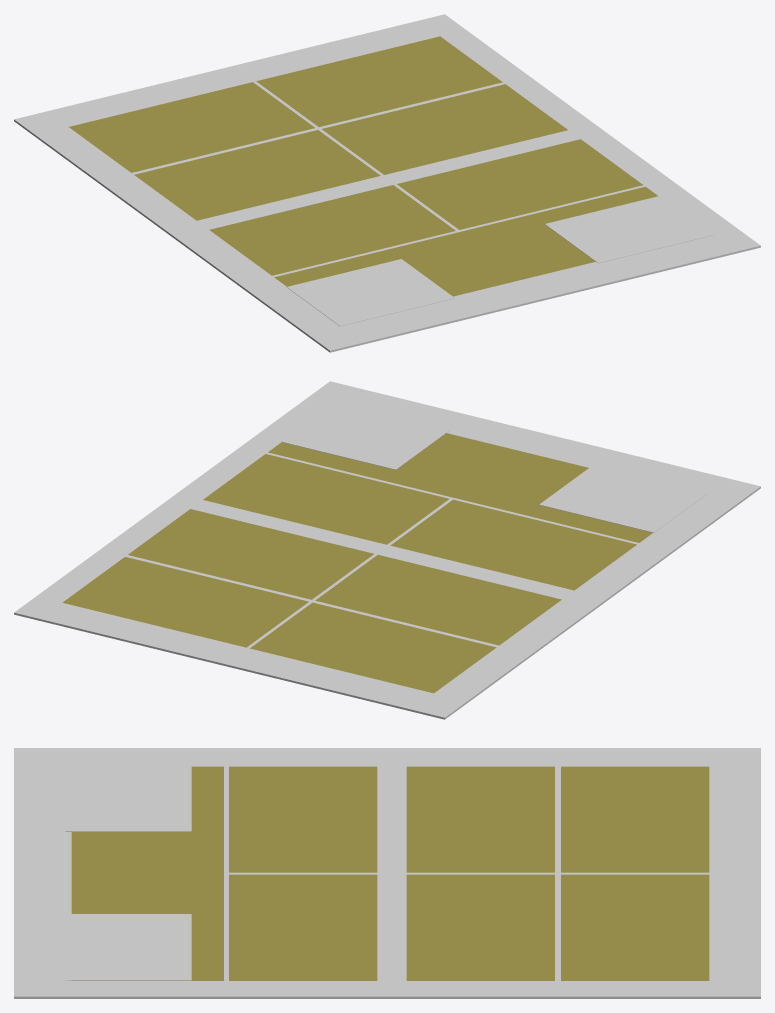
File: Lots.fbx
3 renders of one model, top to bottom at view 1: azimuth 30°, elevation 25°; view 2: azimuth 150°, elevation 25°; view 3: azimuth 270°, elevation 25°, orthographic. The views are drawn at different scales.
Visible parts, largest first — view 1: Cube.002, Plane.002, Plane.003; view 2: Cube.002, Plane.002, Plane.003; view 3: Cube.002, Plane.002, Plane.003.
Part boxes in pixels (x1,y1,x2,y2): Cube.002: [14, 14, 760, 352]; Plane.002: [69, 36, 567, 220]; Plane.003: [209, 139, 658, 296]; Cube.002: [14, 381, 760, 719]; Plane.002: [62, 509, 561, 693]; Plane.003: [203, 433, 652, 590]; Cube.002: [14, 748, 760, 998]; Plane.002: [406, 766, 709, 980]; Plane.003: [71, 766, 377, 980].
Size of the model in its own units: 2166 by 14.35 by 2752.
